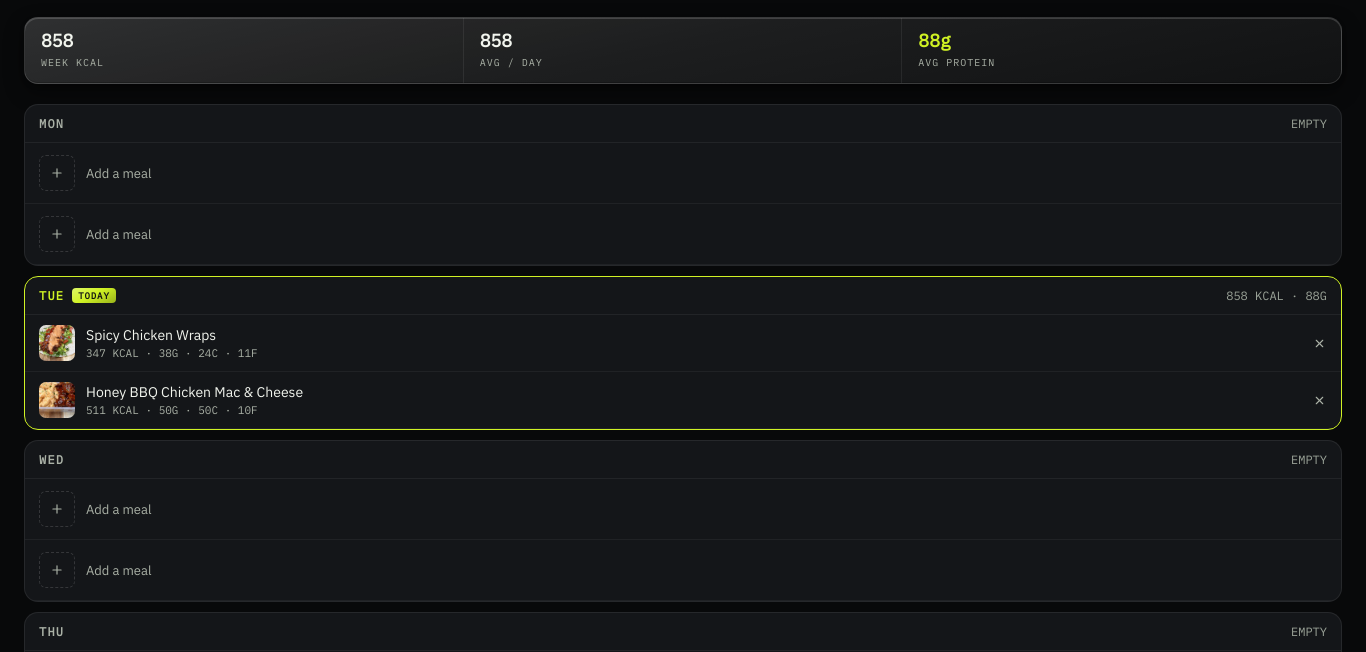
Test: one plan, four surfaces › moves every screen when the plan changes — measured, not assumed
(page scrolled)
Click the button named "Remove Spicy Chicken Wraps from Tue" at {"x": 1319, "y": 343}, box 1297,315 -> 1341,371
(page scrolled)
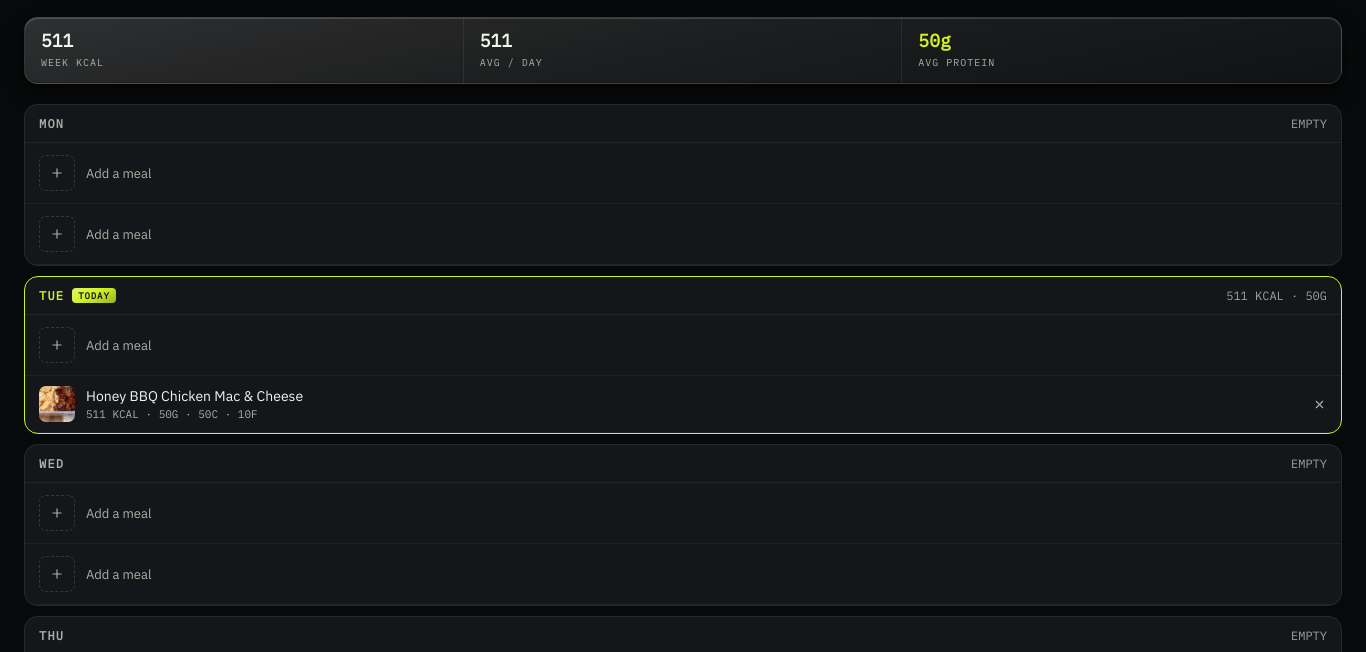
Expected: the text "Honey BBQ Chicken Mac & Cheese" is shown, 86,387 -> 303,405
Now the text "Spicy Chicken Wraps" is gone
